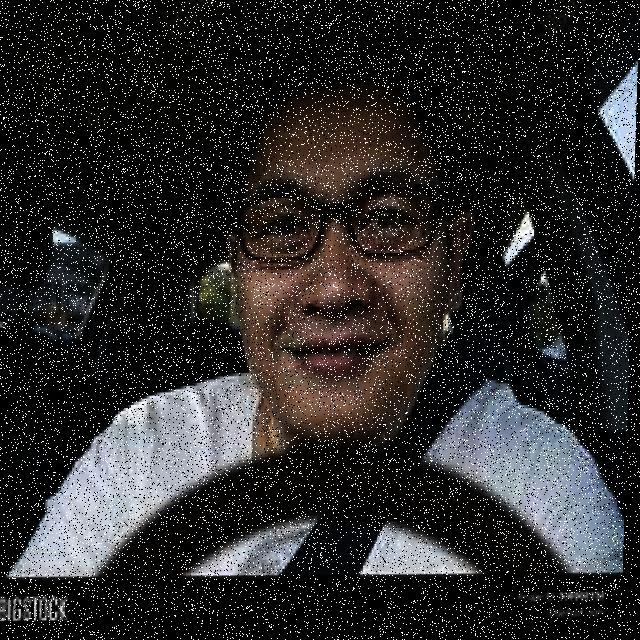seatbelt: (262, 357, 572, 576)
